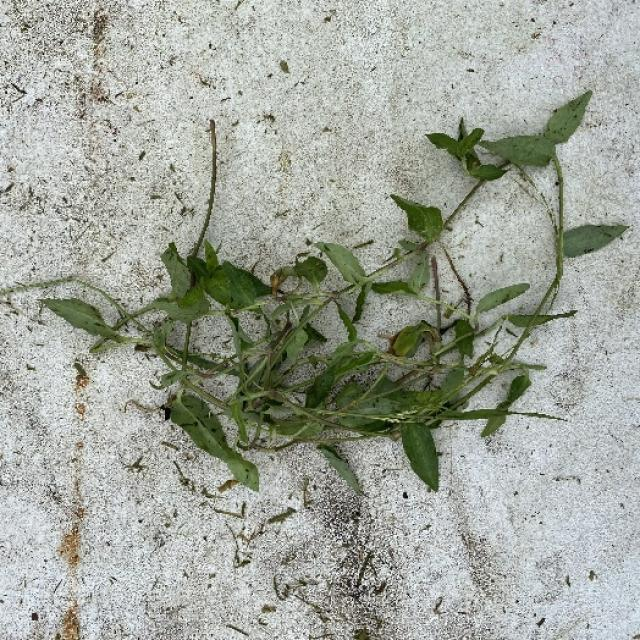organik: (55, 119, 598, 462)
